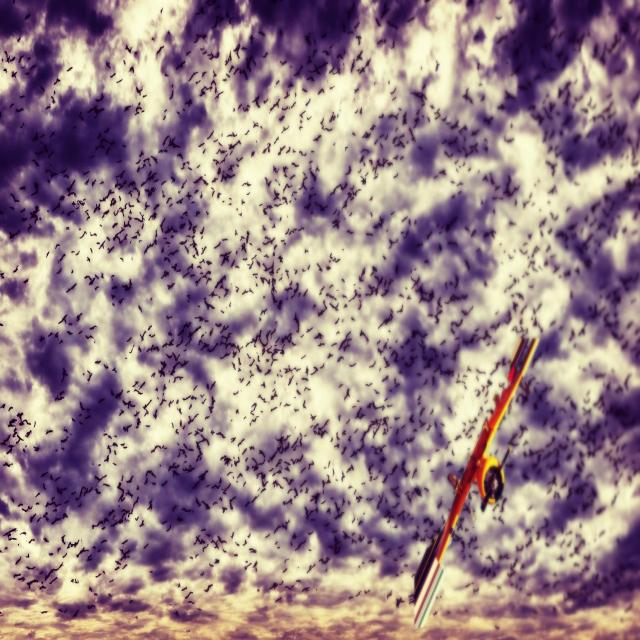airplane: (410, 333, 538, 629)
